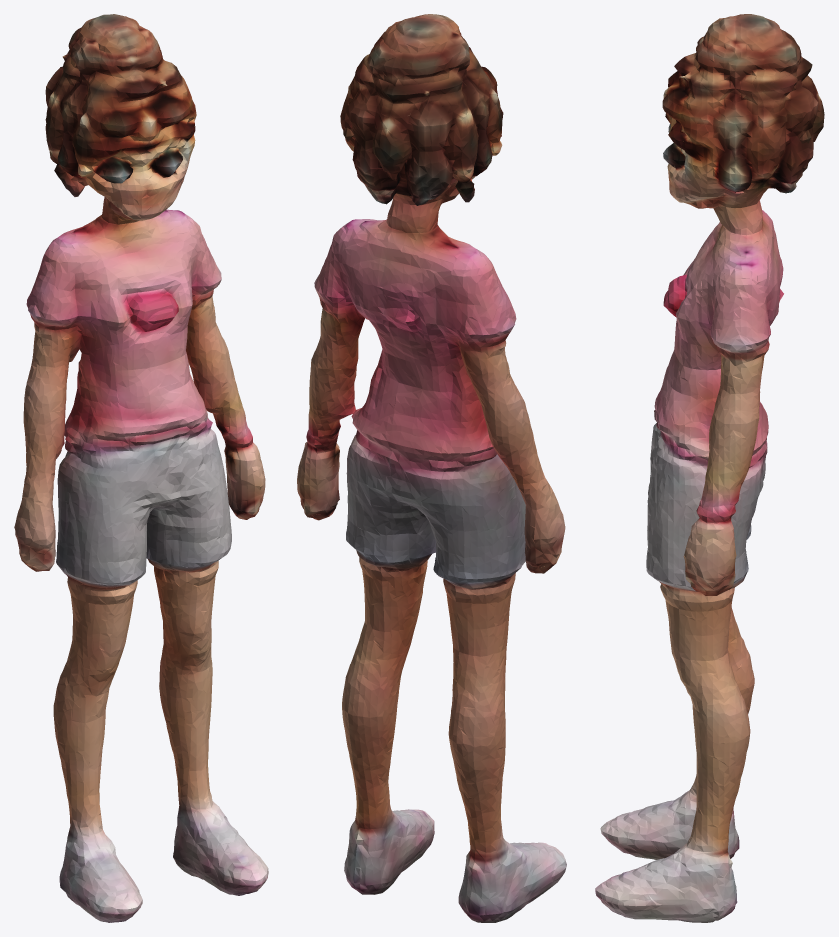
File: tee_heart.glb
3 renders of one model, left to right at view 1: azimuth 30°, elevation 25°; view 2: azimuth 150°, elevation 25°; view 3: azimuth 270°, elevation 25°, orthographic. The views are drawn at different scales.
Visible parts, largest first — view 1: geometry_0; view 2: geometry_0; view 3: geometry_0.
Boxes of the visible parts, x1,y1,x2,y2 form: geometry_0: (14, 14, 268, 922); geometry_0: (297, 14, 566, 922); geometry_0: (595, 14, 824, 922).
Size of the model in its own units: 0.2977 by 1 by 0.2399.
Materials: 1 (1 with a texture image).
